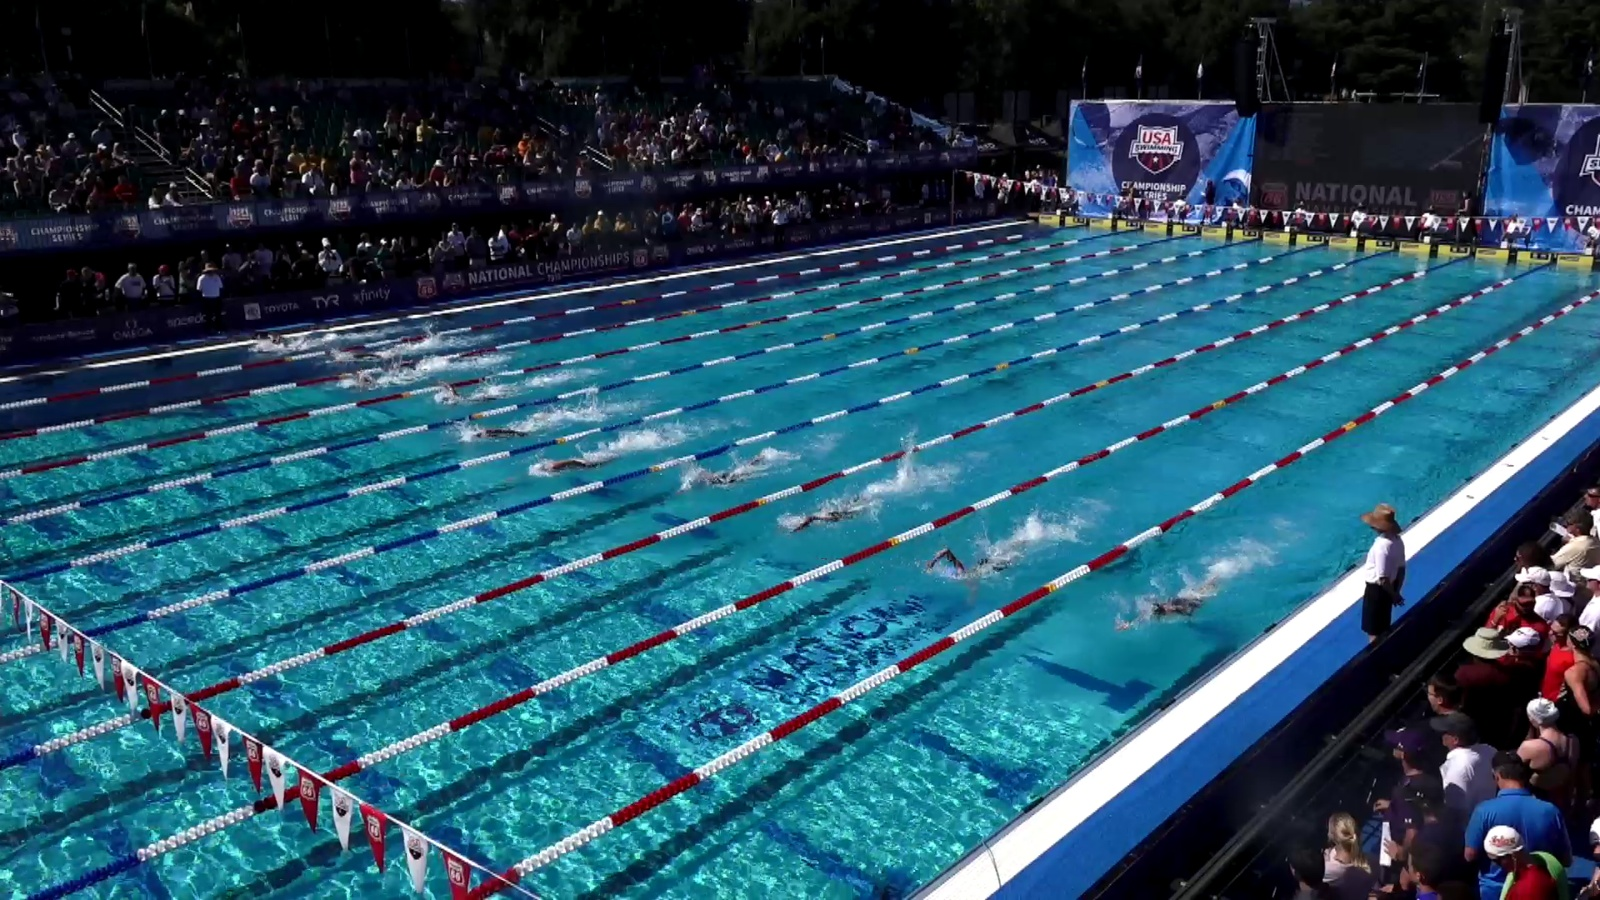swimmerw: (1116, 579, 1219, 634), (684, 452, 775, 499), (788, 497, 875, 538), (930, 549, 1019, 584), (534, 451, 625, 479), (466, 412, 549, 443), (431, 374, 505, 407), (257, 333, 310, 357), (338, 345, 399, 366), (346, 373, 396, 391)
